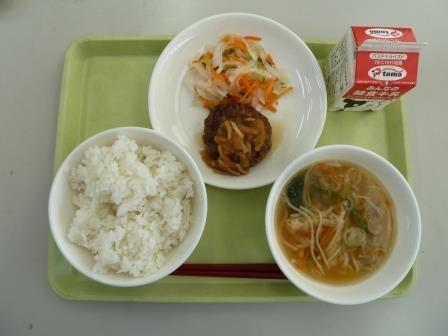Milk: (323, 16, 429, 129)
Rice: (51, 129, 200, 283)
Salad: (182, 34, 296, 110)
Soups: (266, 148, 425, 310)
cutlet: (203, 97, 273, 176)
